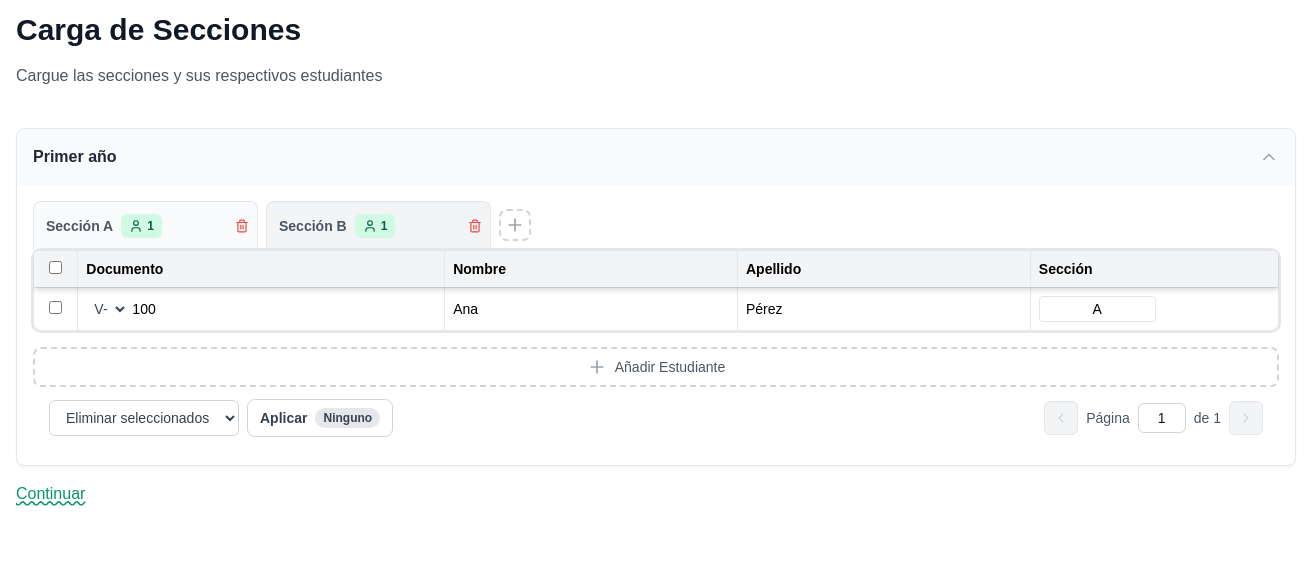
Test case: Data loading pages › creates students with a canonical Venezuelan id
Check: the field showing "Ana" is shown, box [453, 299, 729, 319]
Click the button "Añadir Estudiante" at (656, 367), box [33, 347, 1279, 387]
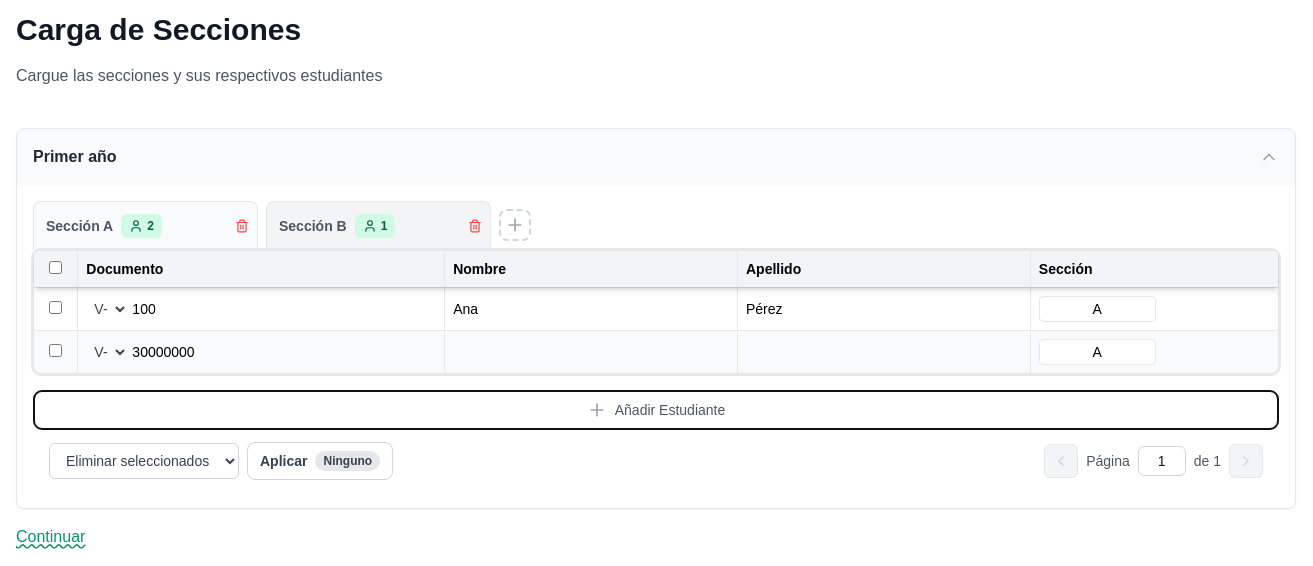
Check: the 2nd dropdown named "Documento: tipo" shows "V-", box [86, 342, 128, 362]
Check: the 2nd field named "Documento" holds "30000000", box [128, 342, 436, 362]
